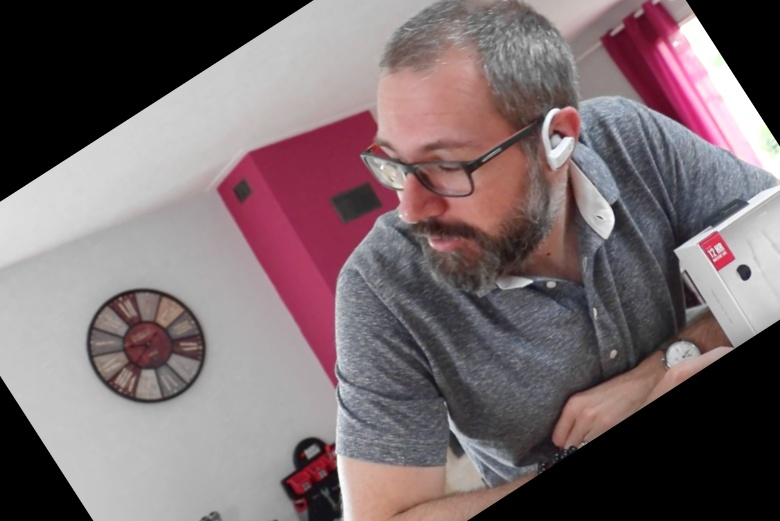earphone: (521, 103, 601, 182)
